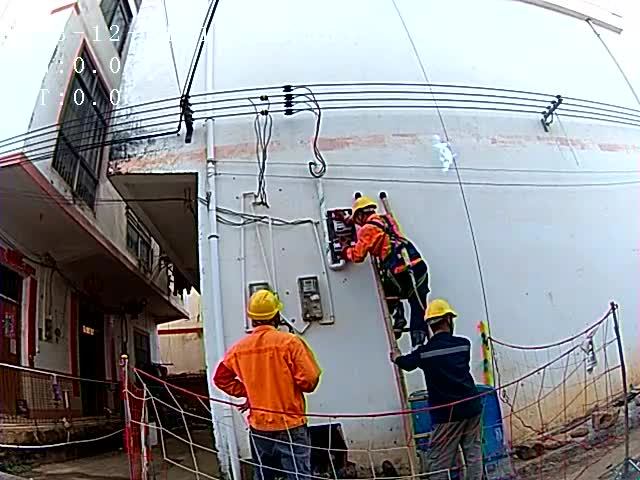badge: (213, 361, 238, 385)
downcloth: (431, 423, 485, 480)
downsuit: (247, 425, 313, 479), (383, 265, 431, 331)
halt: (424, 298, 460, 338), (247, 290, 283, 327), (352, 197, 381, 225)
hand: (389, 346, 402, 363)
inear: (445, 313, 456, 328), (354, 209, 366, 222)
longglove: (337, 237, 351, 258)
person: (212, 288, 323, 480), (395, 295, 508, 480), (330, 196, 430, 363)
safebelt: (361, 215, 428, 311)
shoe: (388, 300, 407, 340)
upsuit: (406, 335, 478, 422)
yupsuit: (216, 326, 320, 429), (343, 212, 423, 261)
